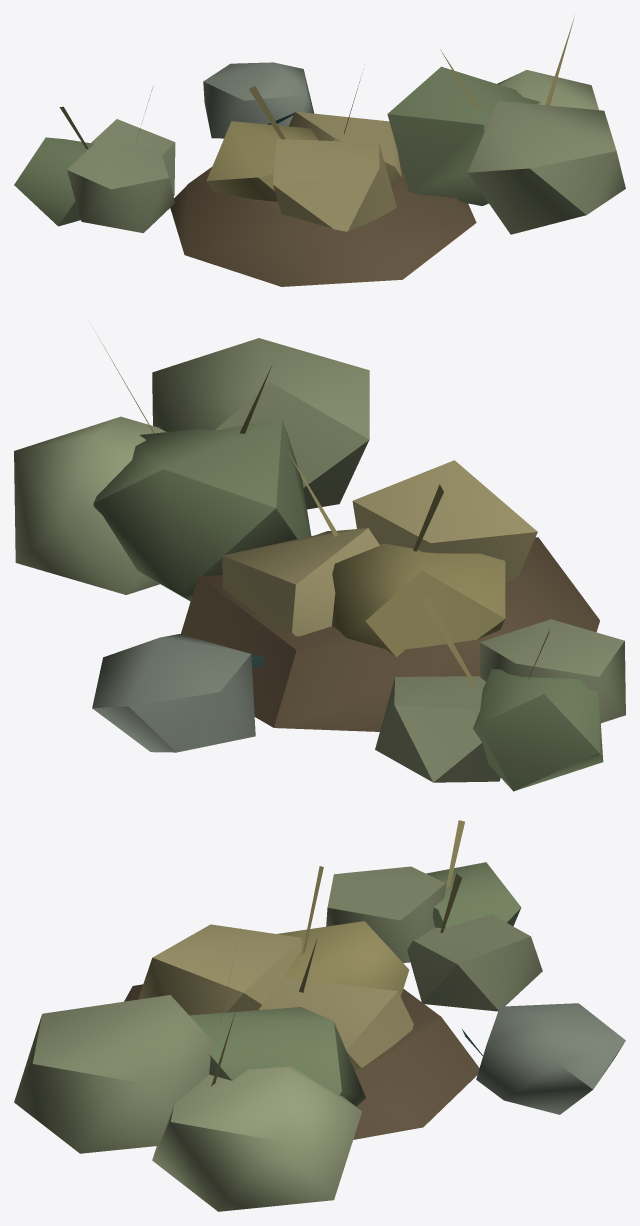
Rendered from bursage_c_lod2.glb.
3 views of the same model, one above another, from view 1: azimuth 30°, elevation 25°; view 2: azimuth 150°, elevation 25°; view 3: azimuth 270°, elevation 25° (orthographic). The views are drawn at different scales.
Visible parts, largest first — view 1: Surface.001; view 2: Surface.001; view 3: Surface.001.
Boxes of the visible parts, x1,y1,x2,y2 form: Surface.001: (14,17,625,286); Surface.001: (14,326,625,791); Surface.001: (14,820,625,1211).
Size of the model in its own units: 2.41 by 0.8322 by 2.08.
